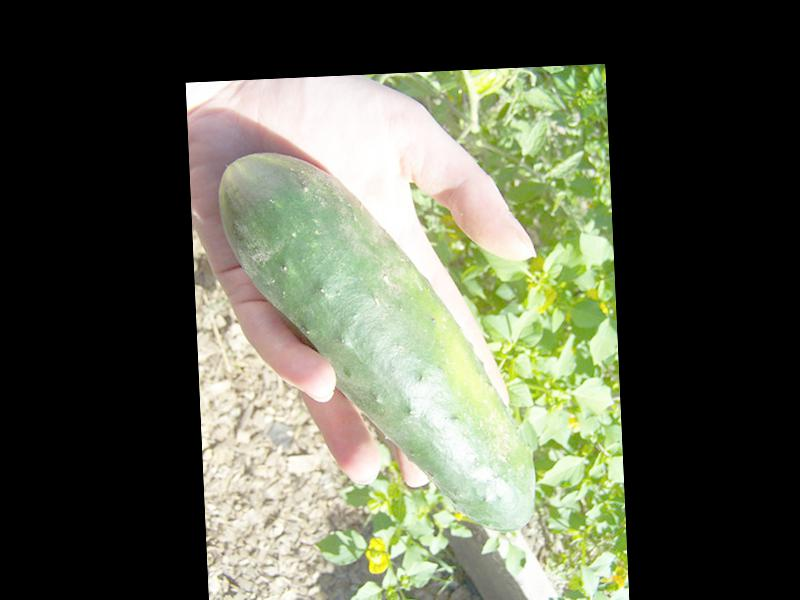Cucumber: (218, 143, 536, 544)
